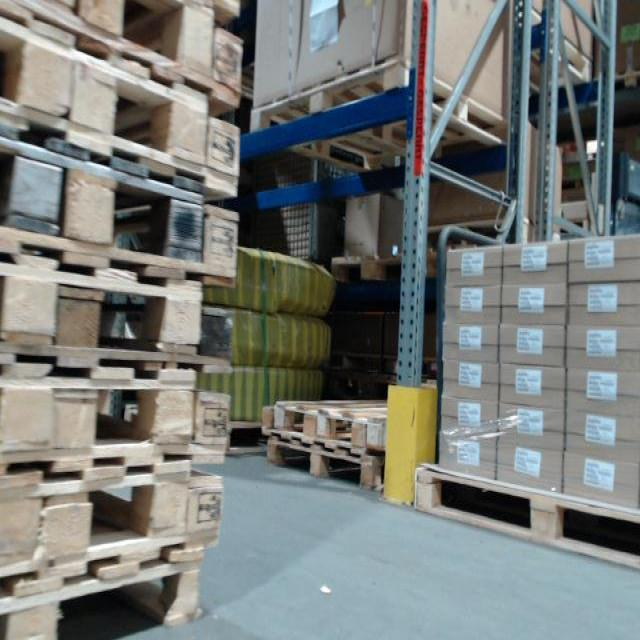pallet: (16, 22, 239, 188), (247, 55, 516, 171), (18, 142, 241, 275), (414, 459, 639, 575), (2, 263, 234, 373), (4, 377, 245, 478), (4, 478, 218, 569), (51, 10, 247, 106), (11, 548, 210, 633), (512, 3, 593, 98), (259, 400, 390, 456), (259, 436, 387, 493)
